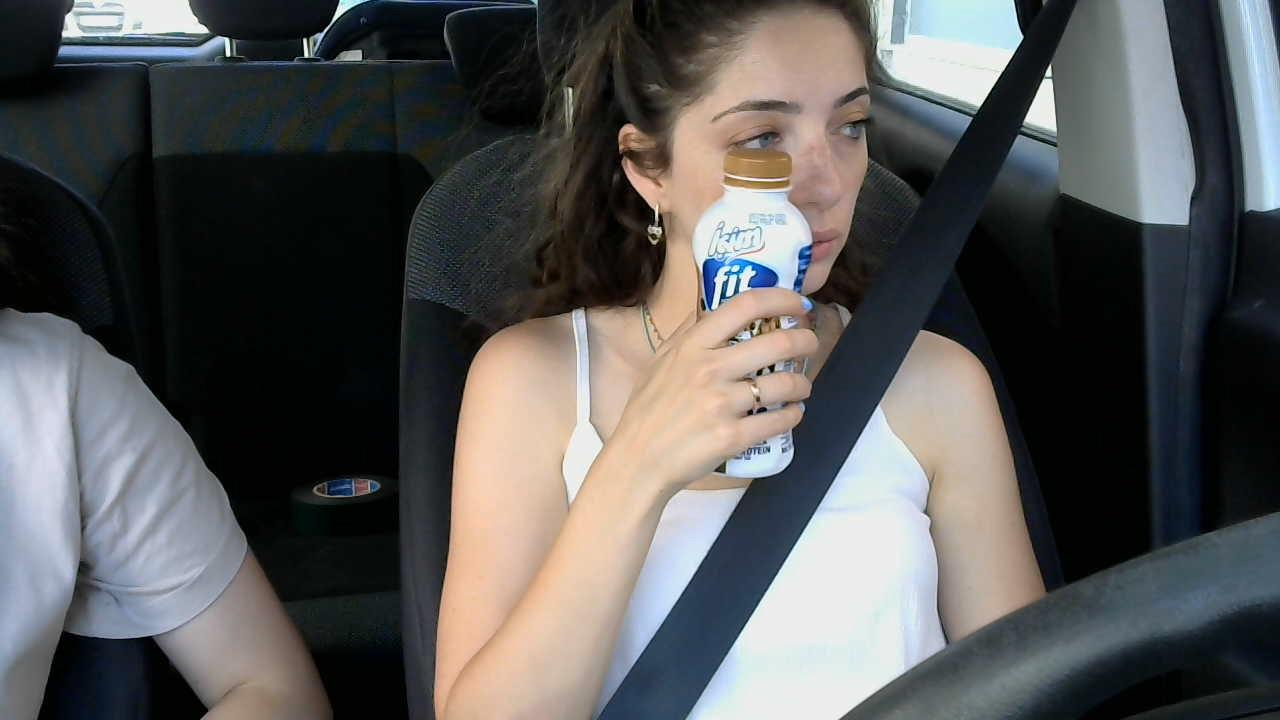Drinking: (688, 149, 809, 483)
